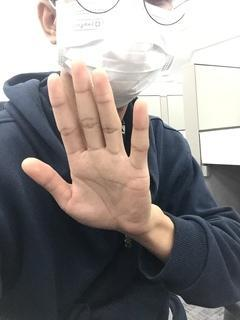hand: (26, 60, 153, 236)
